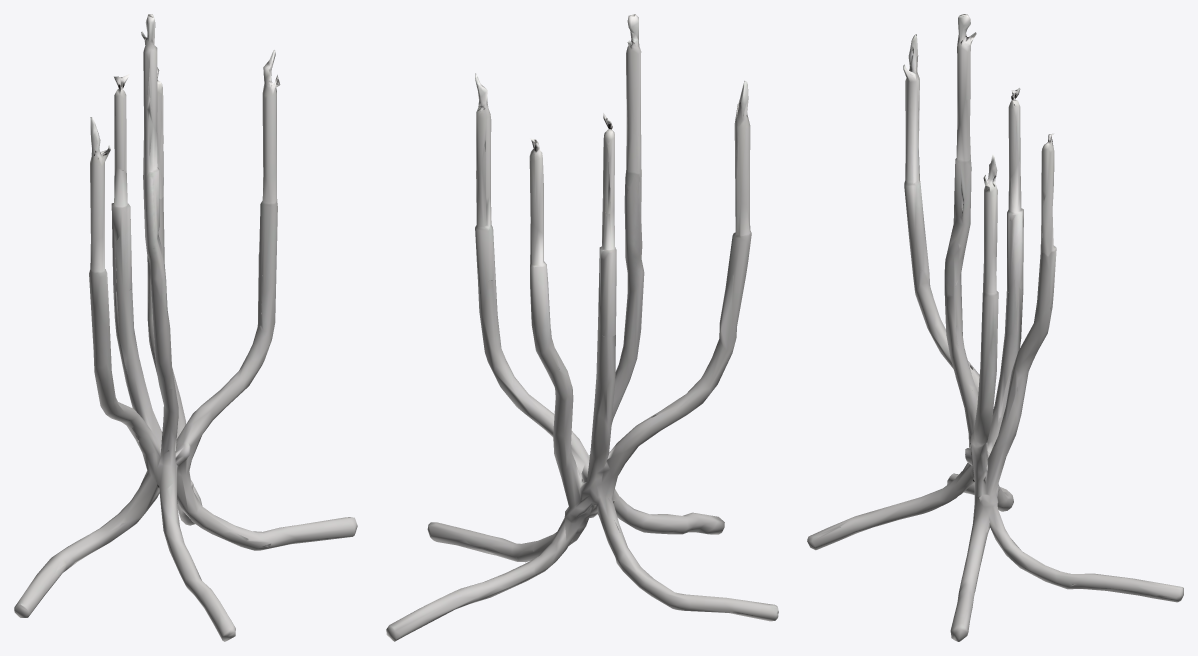
The model's file is 09_1_6dot_sc_cand.glb.
3 renders of one model, left to right at view 1: azimuth 30°, elevation 25°; view 2: azimuth 150°, elevation 25°; view 3: azimuth 270°, elevation 25°, orthographic. The views are drawn at different scales.
Visible parts, largest first — view 1: tripo_material_76da2d24-79f3-4564-9002-a7cbaf75ca86; view 2: tripo_material_76da2d24-79f3-4564-9002-a7cbaf75ca86; view 3: tripo_material_76da2d24-79f3-4564-9002-a7cbaf75ca86.
Part boxes in pixels (x1=…): tripo_material_76da2d24-79f3-4564-9002-a7cbaf75ca86: x1=14, y1=14, x2=357, y2=641; tripo_material_76da2d24-79f3-4564-9002-a7cbaf75ca86: x1=386, y1=14, x2=778, y2=641; tripo_material_76da2d24-79f3-4564-9002-a7cbaf75ca86: x1=807, y1=14, x2=1183, y2=641.
Bounding box in the file's own units: 0.2524 × 0.3996 × 0.2544.
1 material, 1 textured.
